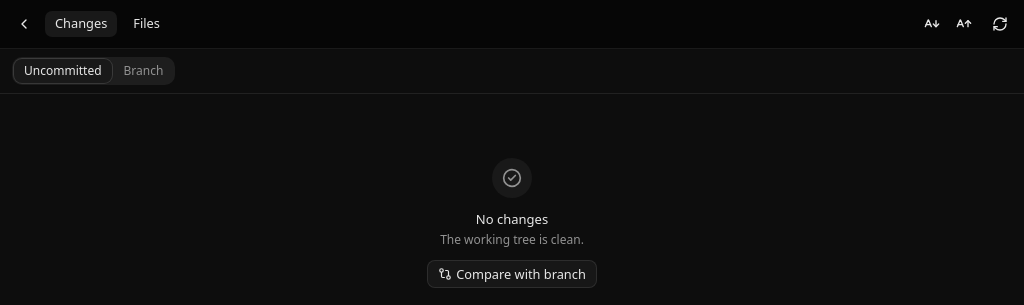
Test case: DiffScreen › switches between the Changes and Files tabs
Check: the text "No changes" is shown, box [476, 210, 548, 228]
Click the tab "Files" at (147, 24), box [122, 10, 171, 38]
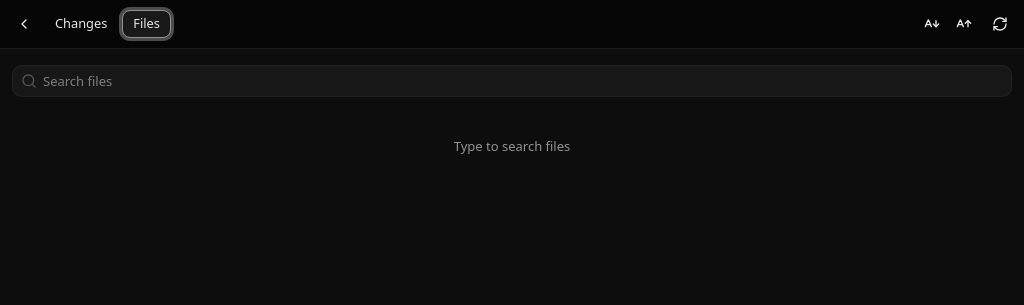
Check: the dropdown labelled "Search files" is shown, box [37, 72, 1011, 90]
Click the tab "Changes" at (81, 24), box [44, 10, 118, 38]
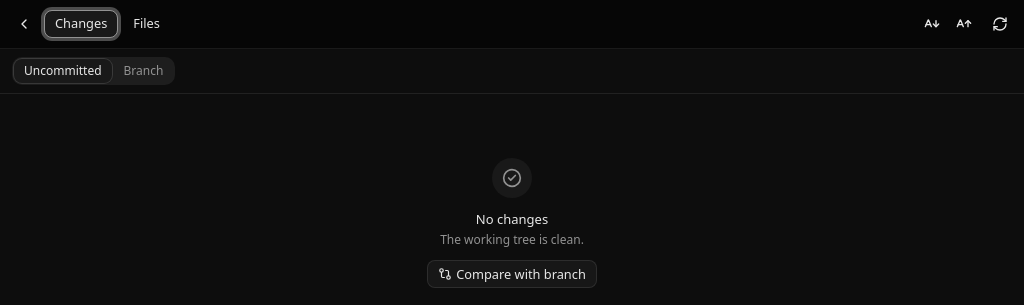
Check: the text "No changes" is shown, box [476, 210, 548, 228]
